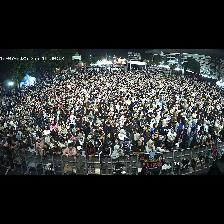person: (32, 120, 58, 132), (99, 145, 112, 169), (168, 128, 176, 150), (159, 122, 168, 141), (86, 142, 95, 161), (63, 144, 76, 157), (132, 140, 144, 154), (112, 145, 124, 159), (94, 135, 103, 152), (188, 127, 196, 146), (155, 140, 167, 152), (132, 133, 143, 146), (146, 140, 156, 154), (144, 132, 154, 146), (52, 142, 62, 156), (55, 131, 66, 143), (118, 129, 126, 145), (75, 126, 85, 138), (130, 120, 139, 133), (43, 143, 52, 156), (122, 143, 130, 157), (124, 137, 132, 151), (112, 138, 121, 150), (190, 136, 199, 147), (19, 141, 28, 152), (28, 141, 35, 155), (129, 129, 137, 141), (180, 136, 188, 148), (59, 139, 67, 151), (36, 137, 44, 149), (104, 133, 112, 145), (71, 137, 79, 148), (123, 122, 130, 134), (20, 134, 28, 144), (50, 138, 58, 148), (46, 133, 52, 145), (77, 146, 85, 155), (99, 130, 105, 142), (175, 137, 181, 149), (205, 135, 212, 145), (60, 125, 67, 135), (82, 139, 88, 150), (78, 134, 84, 145), (172, 112, 177, 125), (36, 147, 43, 156), (187, 124, 192, 136), (212, 136, 219, 144), (88, 135, 94, 144), (15, 141, 19, 153), (140, 168, 148, 174), (31, 128, 36, 137), (67, 135, 72, 143), (41, 133, 45, 143)
